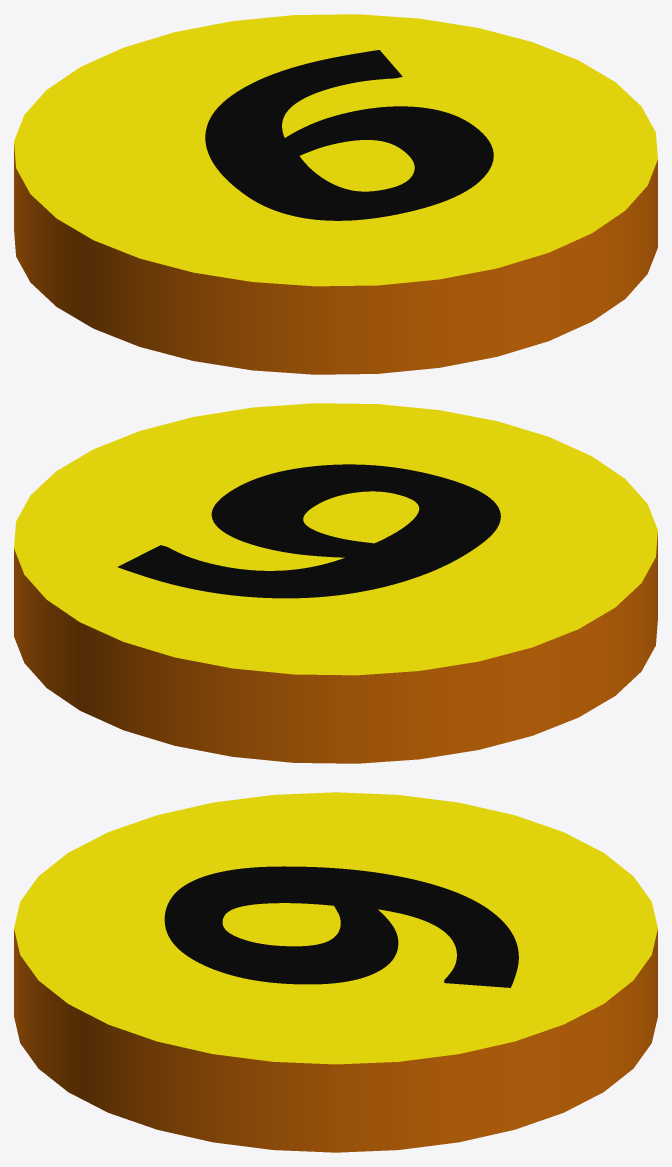
Rendered from six.fbx.
The picture shows the model from 3 angles, top to bottom: view 1: azimuth 30°, elevation 25°; view 2: azimuth 150°, elevation 25°; view 3: azimuth 270°, elevation 25°; orthographic projection.
Visible parts, largest first — view 1: ทรงกระบอก.005, ช้อความ.005; view 2: ทรงกระบอก.005, ช้อความ.005; view 3: ทรงกระบอก.005, ช้อความ.005.
Boxes of the visible parts, bbox=[...] form: ทรงกระบอก.005: bbox=[14, 14, 657, 374]; ช้อความ.005: bbox=[205, 50, 493, 220]; ทรงกระบอก.005: bbox=[14, 403, 657, 763]; ช้อความ.005: bbox=[118, 464, 500, 598]; ทรงกระบอก.005: bbox=[14, 792, 657, 1152]; ช้อความ.005: bbox=[164, 866, 518, 987].
Bounding box in the file's own units: 200 × 31.7 × 200.
